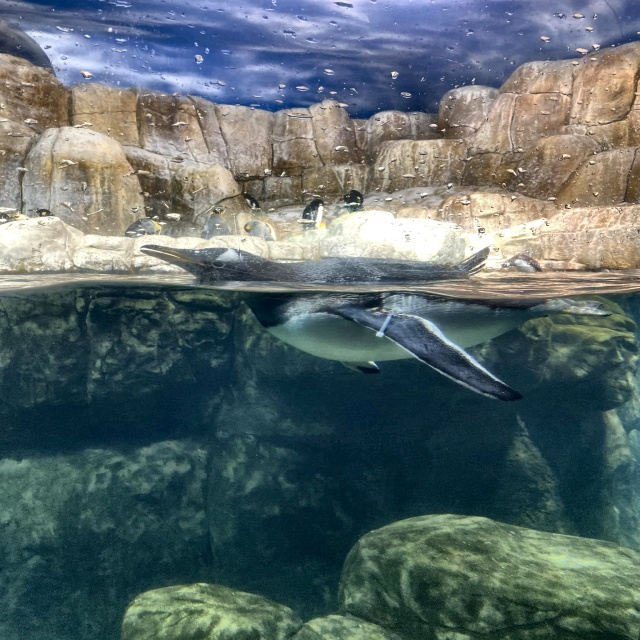penguin: (132, 232, 593, 391), (200, 202, 231, 246), (296, 197, 328, 236), (116, 212, 160, 238), (246, 214, 278, 242), (342, 188, 366, 217), (35, 203, 60, 224)
